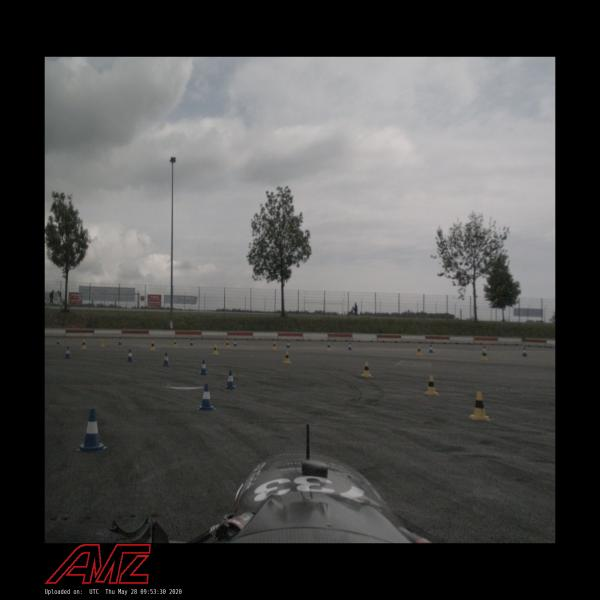blue_cone: (76, 409, 107, 452), (197, 384, 216, 410), (224, 370, 236, 390), (199, 359, 208, 375), (162, 352, 170, 366), (126, 349, 134, 362), (64, 346, 71, 358), (521, 346, 528, 356), (429, 344, 434, 353), (189, 338, 194, 346), (56, 336, 60, 345), (348, 342, 352, 350), (233, 339, 237, 346), (286, 341, 290, 348), (118, 338, 122, 345)
yellow_cone: (469, 391, 490, 420), (424, 374, 439, 395), (361, 362, 372, 378), (211, 343, 219, 355), (481, 346, 488, 359), (284, 350, 290, 363), (149, 341, 156, 350), (80, 340, 86, 350), (416, 346, 422, 355), (326, 342, 331, 351), (173, 339, 178, 347), (225, 340, 230, 348), (272, 340, 276, 349), (100, 339, 104, 347)
